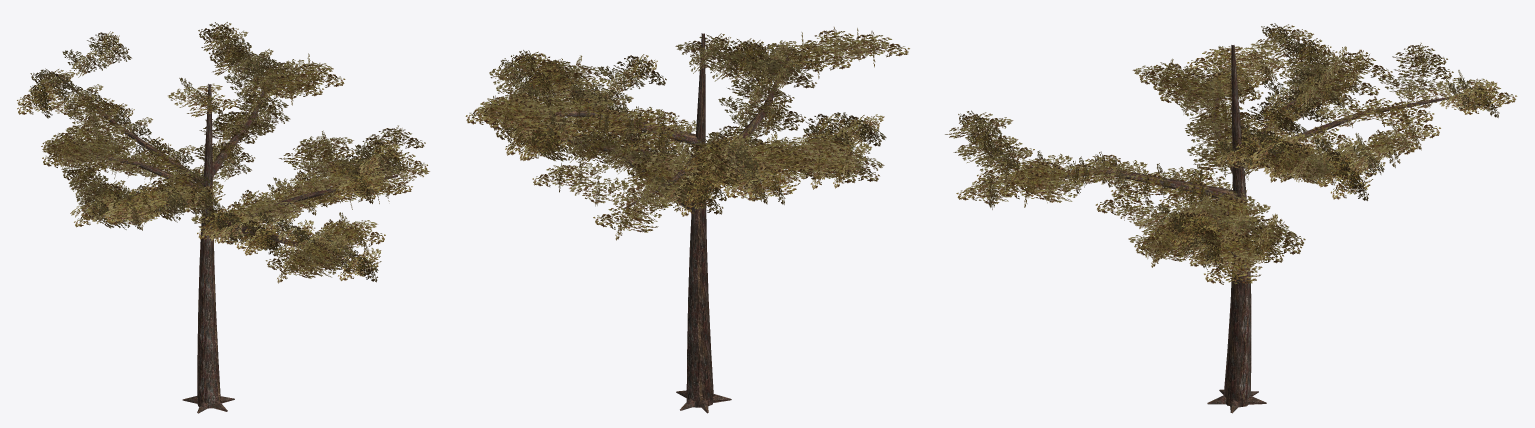
The model's file is tree_3d_05_golden_beige_lod1.glb.
The picture shows the model from 3 angles, left to right: view 1: azimuth 30°, elevation 25°; view 2: azimuth 150°, elevation 25°; view 3: azimuth 270°, elevation 25°; orthographic projection. The views are drawn at different scales.
Parts seen in each view (by area): view 1: foliage_cards, wood_geometry; view 2: foliage_cards, wood_geometry; view 3: foliage_cards, wood_geometry.
Part boxes in pixels (x1,y1,x2,y2): foliage_cards: (17, 22, 429, 283); wood_geometry: (57, 68, 397, 413); foliage_cards: (465, 27, 909, 240); wood_geometry: (499, 33, 849, 413); foliage_cards: (945, 23, 1517, 286); wood_geometry: (992, 45, 1476, 413).
Bounding box in the file's own units: 9.84 × 8.88 × 12.95.
2 materials, 2 textured.
